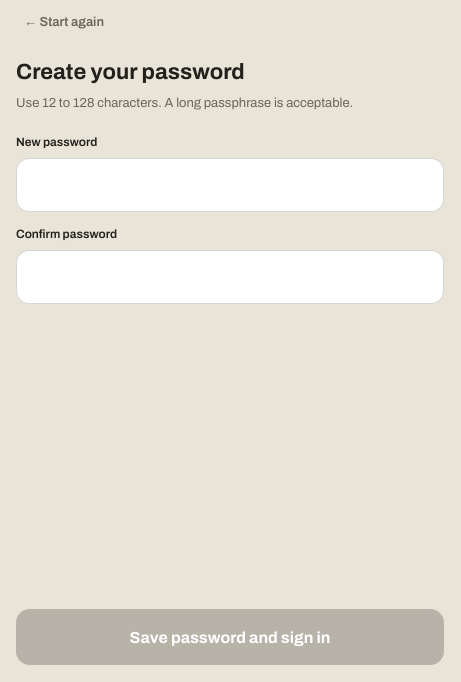
Test: TeamAccessScreen password enrollment › keeps save disabled while the confirmation differs
Type "123456789012" into the password field labelled "New password" at (230, 185), box [16,158,444,212]
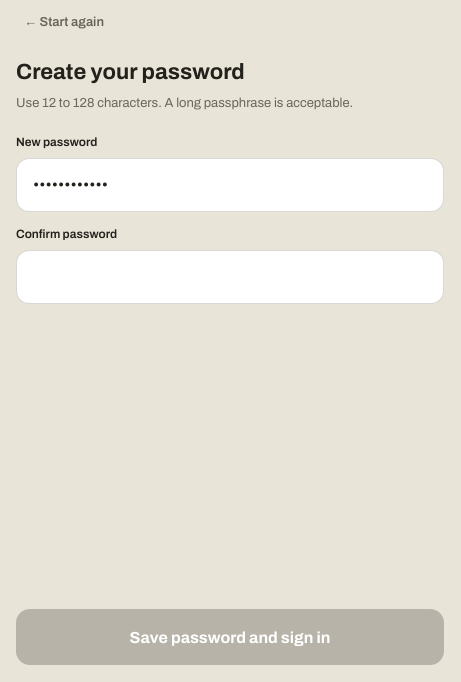
Type "123456789013" into the password field labelled "Confirm password" at (230, 277), box [16,250,444,304]
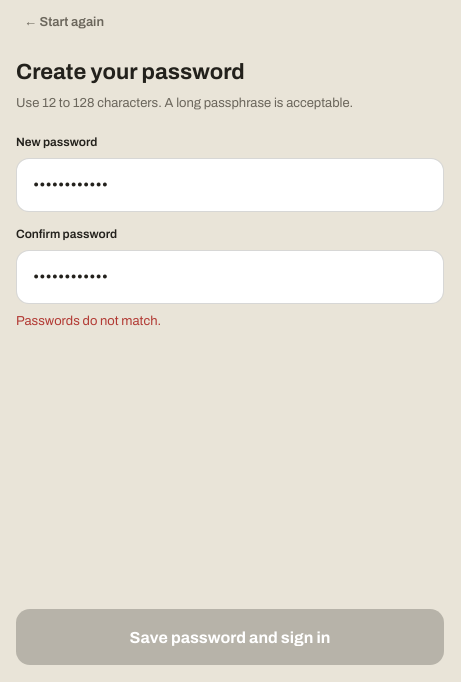
Expected: the button "Save password and sign in" is disabled, [16,609,444,665]
Expected: the text "Passwords do not match." is shown, [16,314,161,328]
